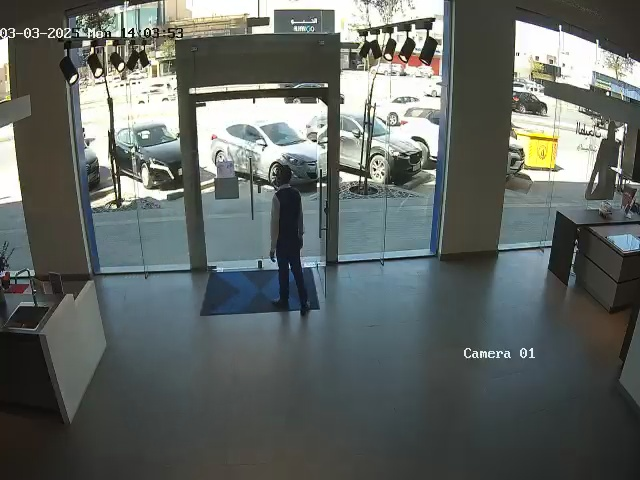employee: (269, 163, 311, 314)
